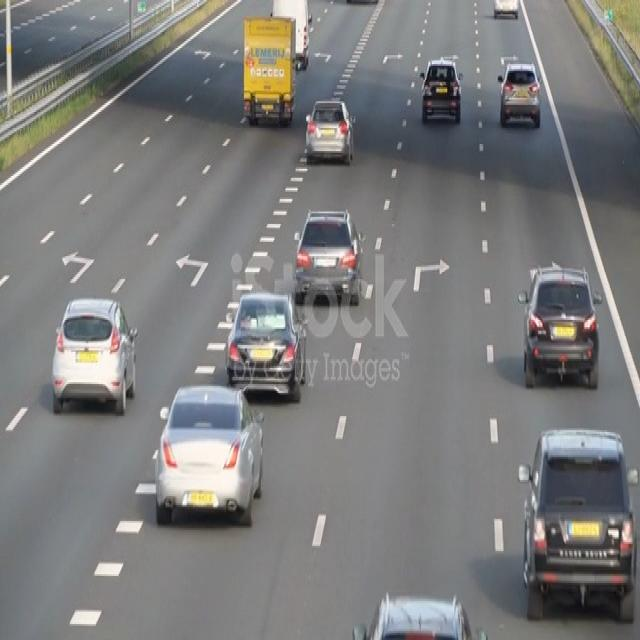Car: (522, 424, 640, 625), (152, 383, 264, 522), (52, 292, 135, 420), (524, 258, 599, 385), (226, 291, 310, 399), (294, 202, 368, 305), (356, 591, 481, 640), (302, 97, 358, 165), (418, 53, 464, 123), (497, 58, 542, 125)
Truck: (240, 16, 298, 129), (282, 0, 314, 70)
